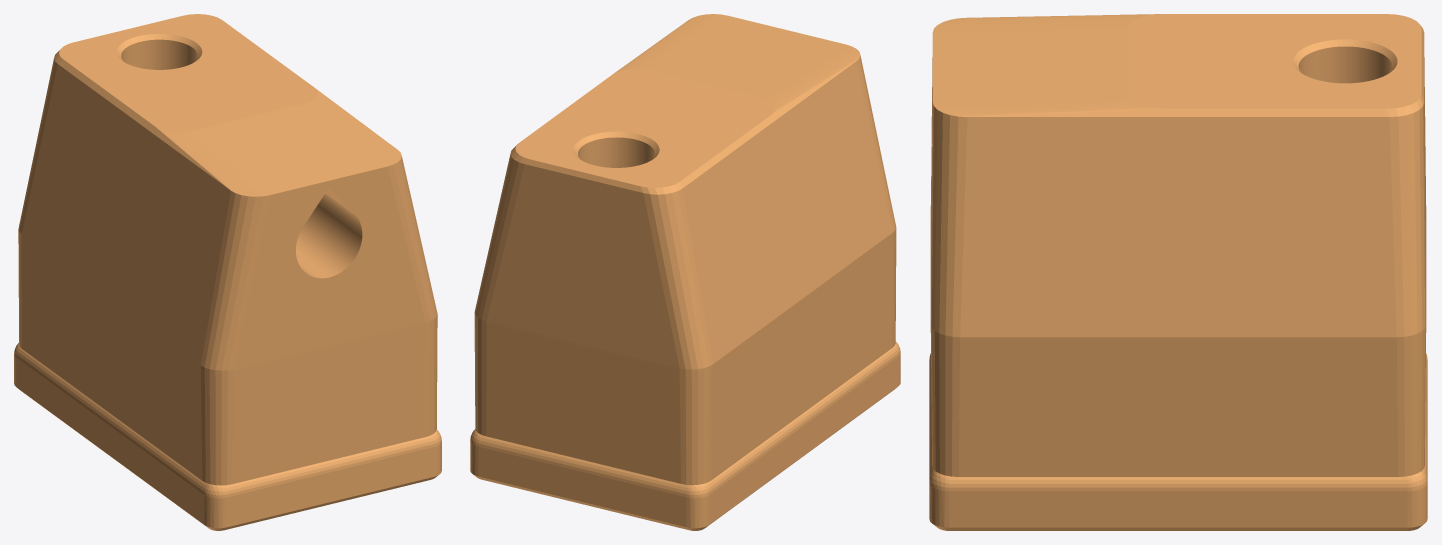
Rendered from kit-aero-wedge.glb.
3 views of the same model, side by side, from view 1: azimuth 30°, elevation 25°; view 2: azimuth 150°, elevation 25°; view 3: azimuth 270°, elevation 25° (orthographic). The views are drawn at different scales.
Parts seen in each view (by area): view 1: kit-aero-wedge; view 2: kit-aero-wedge; view 3: kit-aero-wedge.
Part boxes in pixels (bbox=[...]): kit-aero-wedge: bbox=[14, 14, 441, 530]; kit-aero-wedge: bbox=[470, 14, 900, 530]; kit-aero-wedge: bbox=[929, 14, 1427, 530].
Size of the model in its own units: 0.0248 by 0.0333 by 0.0373.
